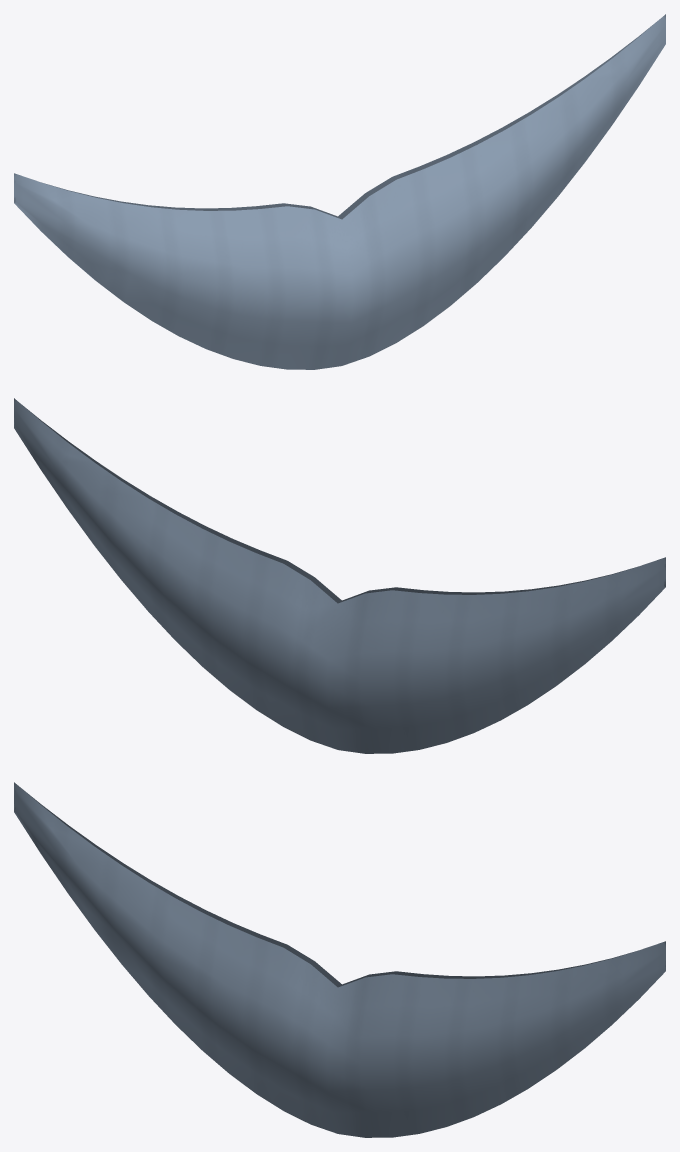
Rendered from cpart_tail_fluke.glb.
3 views of the same model, one above another, from view 1: azimuth 30°, elevation 25°; view 2: azimuth 150°, elevation 25°; view 3: azimuth 330°, elevation 25° (orthographic).
Parts seen in each view (by area): view 1: TailFluke; view 2: TailFluke; view 3: TailFluke.
Boxes of the visible parts, x1,y1,x2,y2 form: TailFluke: [14, 14, 665, 369]; TailFluke: [14, 398, 665, 753]; TailFluke: [14, 782, 665, 1137].
Bounding box in the file's own units: 0.34 × 0.135 × 0.024.
1 material, 1 textured.
